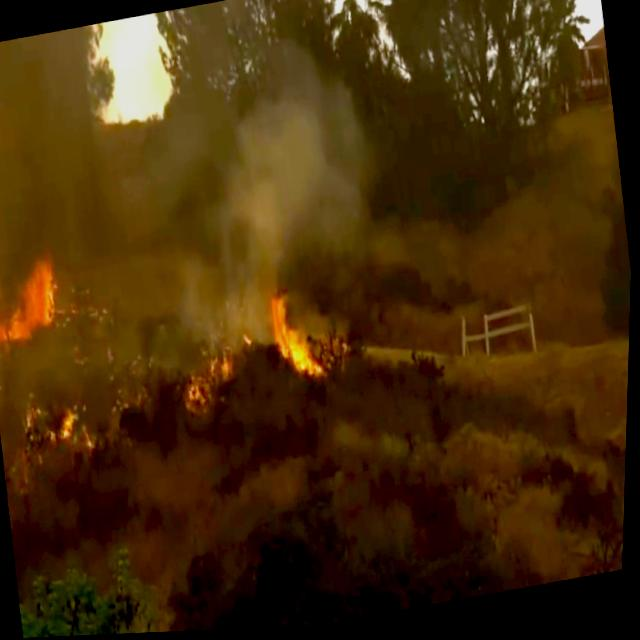fire: (0, 202, 95, 374)
smoke: (166, 0, 381, 356)
